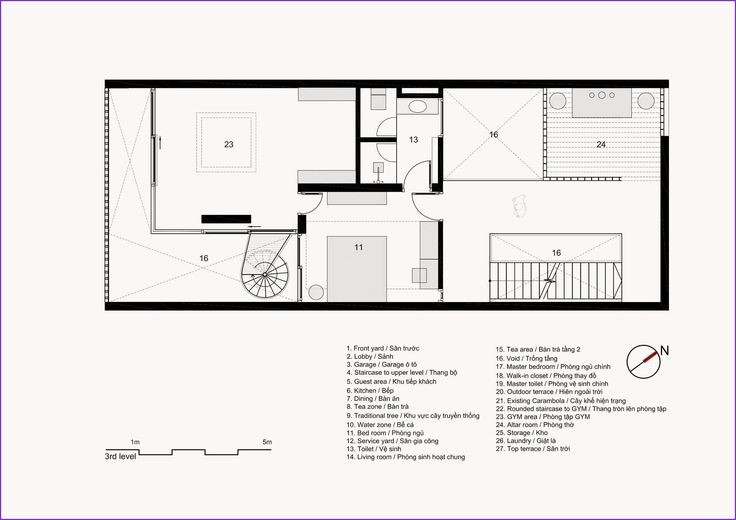door: (406, 161, 433, 191), (413, 194, 437, 222), (375, 143, 396, 163), (376, 117, 394, 135)
room: (156, 86, 299, 228), (444, 88, 543, 244), (303, 199, 430, 301), (362, 141, 400, 181), (364, 90, 396, 134)
wall: (106, 76, 671, 92), (104, 300, 675, 313), (658, 134, 673, 311), (353, 83, 364, 186), (297, 184, 405, 194), (436, 220, 446, 289), (398, 92, 442, 100), (437, 136, 442, 190), (361, 135, 395, 142), (295, 213, 308, 231)
window: (150, 87, 161, 183), (203, 227, 298, 235), (294, 262, 305, 300)
